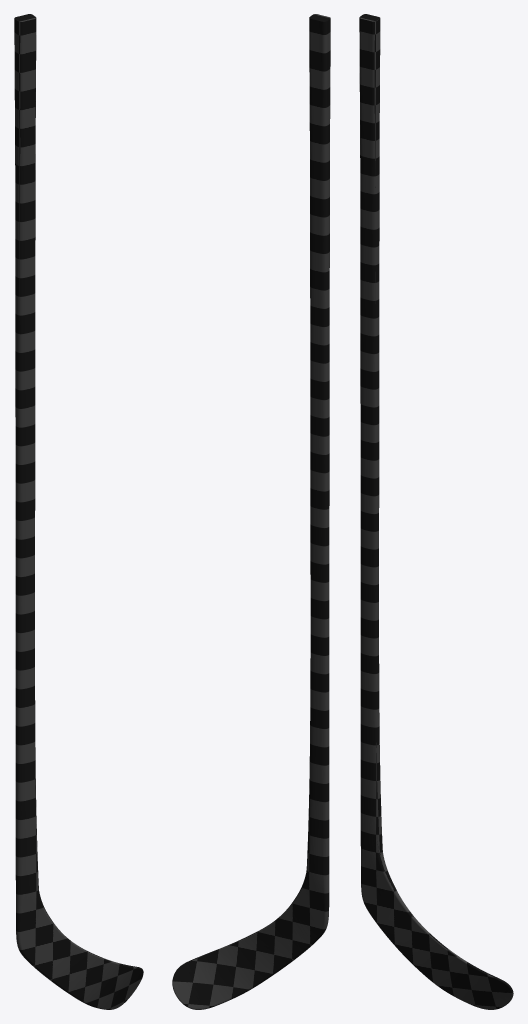
Rendered from P50-SBO-LIE6_5.glb.
The picture shows the model from 3 angles, left to right: view 1: azimuth 30°, elevation 25°; view 2: azimuth 150°, elevation 25°; view 3: azimuth 330°, elevation 25°; orthographic projection. The views are drawn at different scales.
Visible parts, largest first — view 1: geometry_0; view 2: geometry_0; view 3: geometry_0.
Boxes of the visible parts, left/top/right/bottom form: geometry_0: left=14, top=14, right=143, bottom=1009; geometry_0: left=172, top=14, right=330, bottom=1009; geometry_0: left=359, top=14, right=513, bottom=1009.
Bounding box in the file's own units: 240 × 1650 × 66.66.
Materials: 1 (1 with a texture image).
